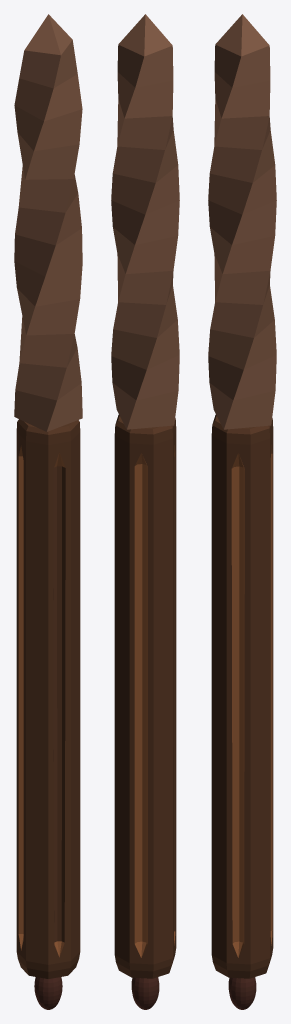
Rendered from Wand 556.glb.
3 views of the same model, side by side, from view 1: azimuth 90°, elevation 25°; view 2: azimuth 150°, elevation 25°; view 3: azimuth 330°, elevation 25° (orthographic).
Visible parts, largest first — view 1: GeneratedWand; view 2: GeneratedWand; view 3: GeneratedWand.
Part boxes in pixels (x1=…): GeneratedWand: x1=14, y1=14, x2=82, y2=1009; GeneratedWand: x1=111, y1=14, x2=179, y2=1009; GeneratedWand: x1=208, y1=14, x2=276, y2=1009.
Size of the model in its own units: 0.0311 by 0.4985 by 0.0311.
